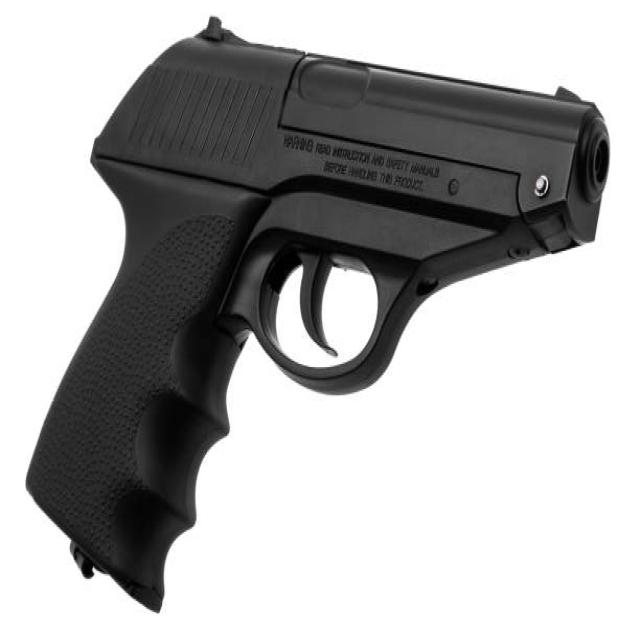pistol: (24, 11, 619, 619)
